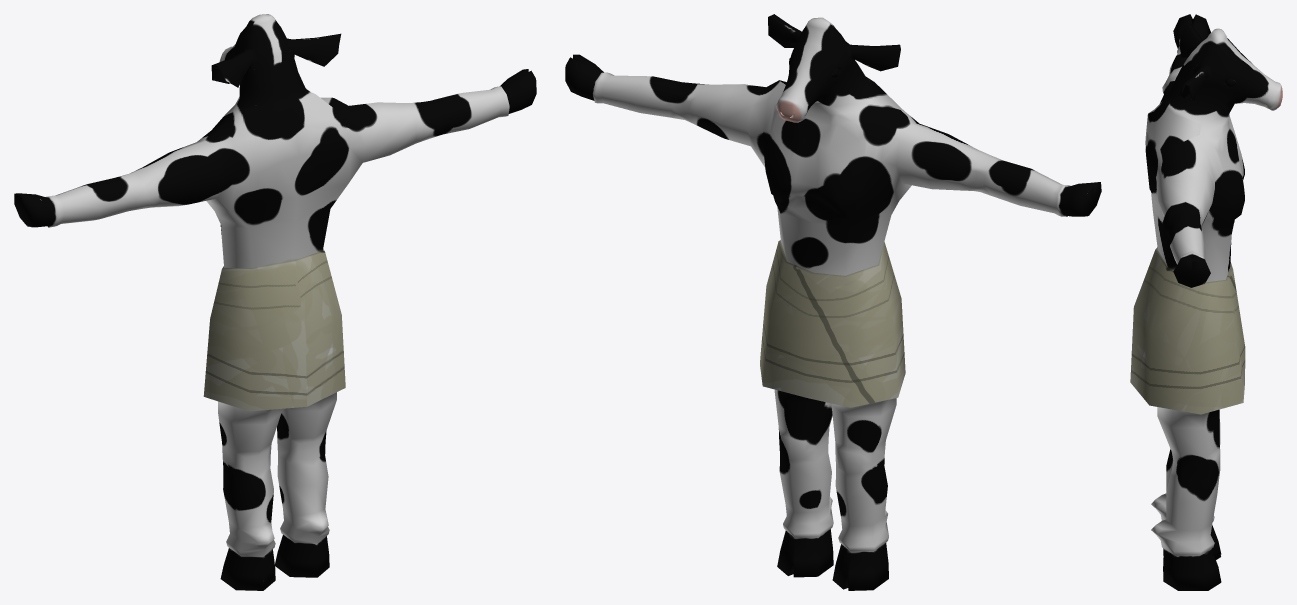
Rendered from cowManColored.fbx.
The picture shows the model from 3 angles, left to right: view 1: azimuth 30°, elevation 25°; view 2: azimuth 150°, elevation 25°; view 3: azimuth 270°, elevation 25°; orthographic projection. The views are drawn at different scales.
Visible parts, largest first — view 1: CowManUVD:Cow1; view 2: CowManUVD:Cow1; view 3: CowManUVD:Cow1.
Boxes of the visible parts, bbox=[...] form: CowManUVD:Cow1: bbox=[14, 14, 536, 590]; CowManUVD:Cow1: bbox=[565, 14, 1101, 590]; CowManUVD:Cow1: bbox=[1130, 14, 1282, 590].
Bounding box in the file's own units: 21.73 × 22.36 × 5.74.
